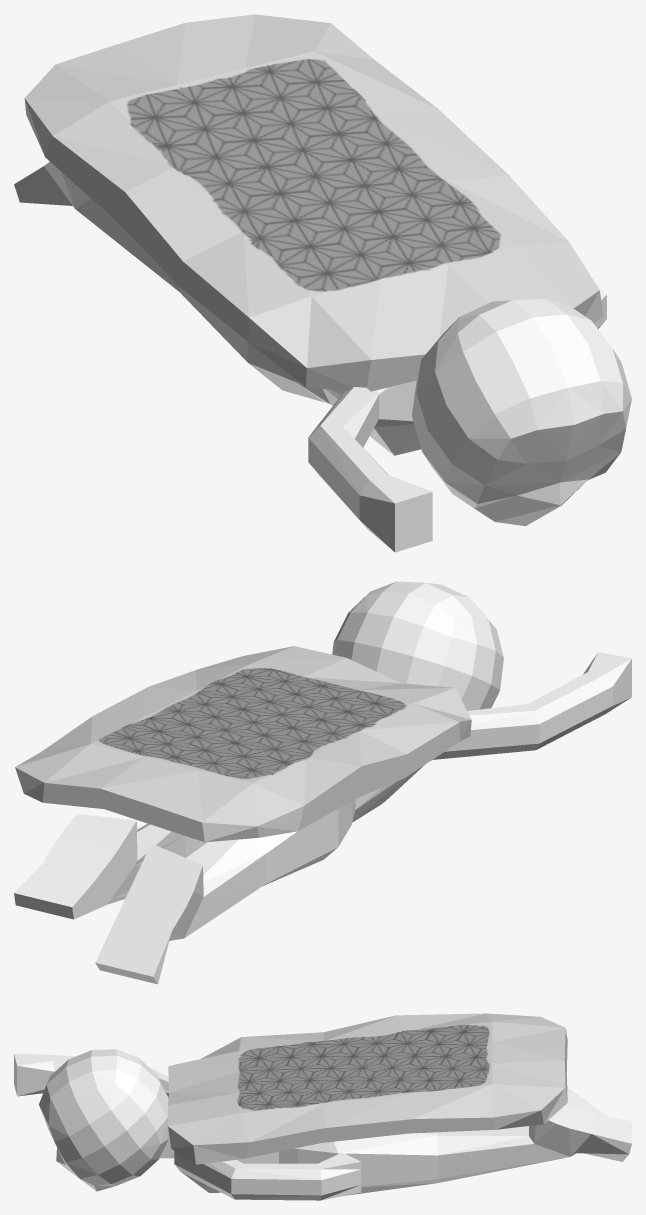
The model's file is player.obj.
3 views of the same model, one above another, from view 1: azimuth 30°, elevation 25°; view 2: azimuth 150°, elevation 25°; view 3: azimuth 270°, elevation 25° (orthographic). The views are drawn at different scales.
Visible parts, largest first — view 1: Cube.001; view 2: Cube.001; view 3: Cube.001.
Boxes of the visible parts, x1,y1,x2,y2 form: Cube.001: (14,14,631,552); Cube.001: (14,581,631,984); Cube.001: (14,1013,631,1200).
Bounding box in the file's own units: 3.54 × 1.91 × 7.65.
1 material, 1 textured.
